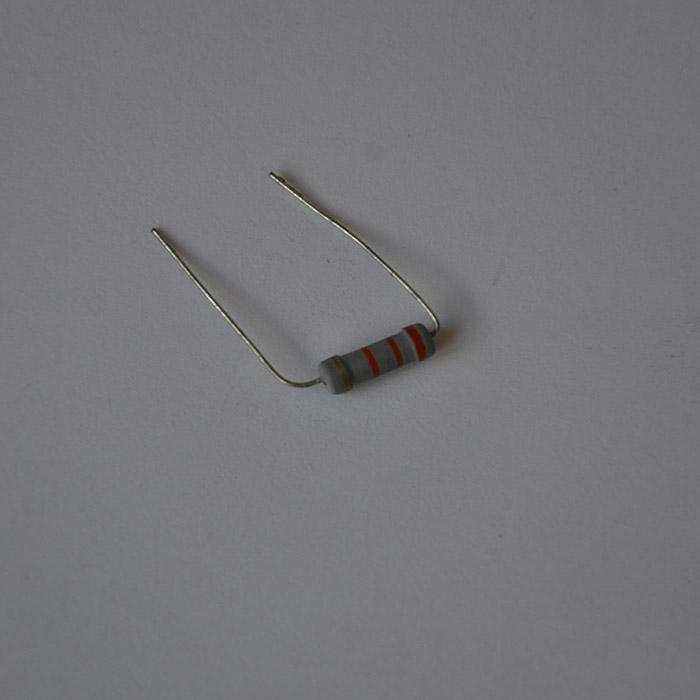resistor: (316, 319, 438, 395)
